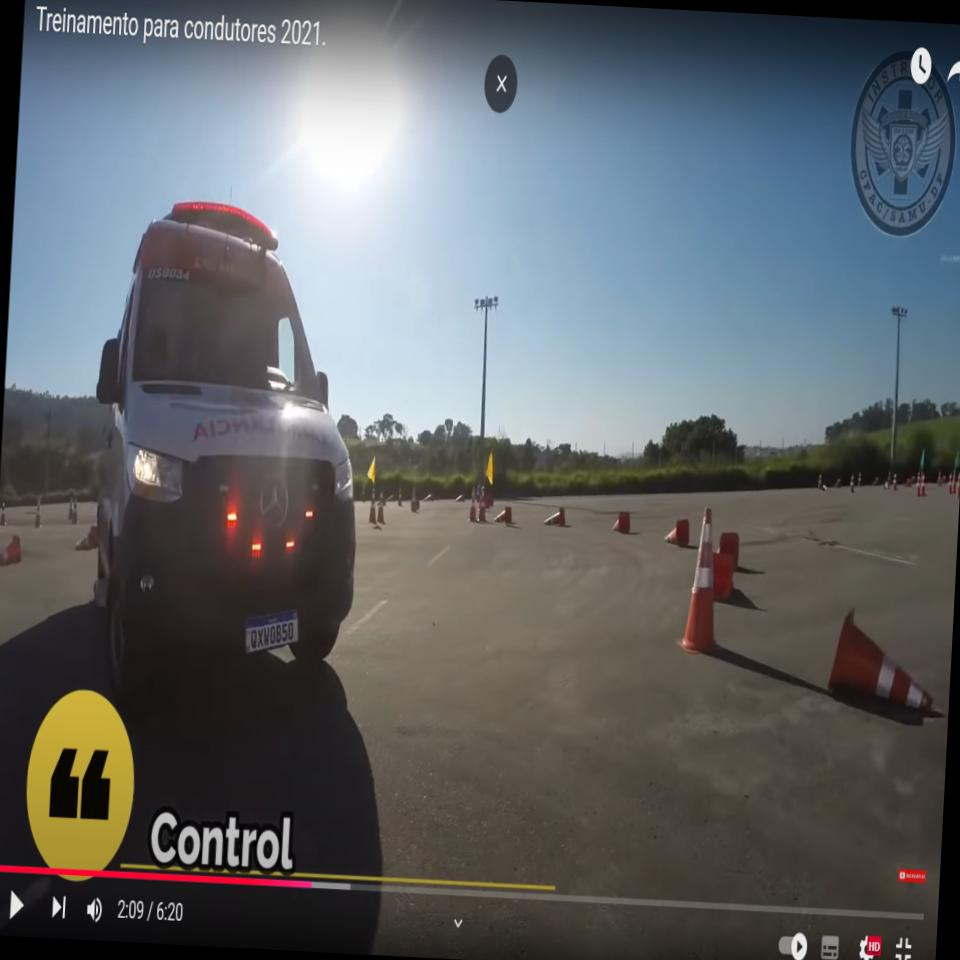bombeiro: (79, 192, 380, 722)
